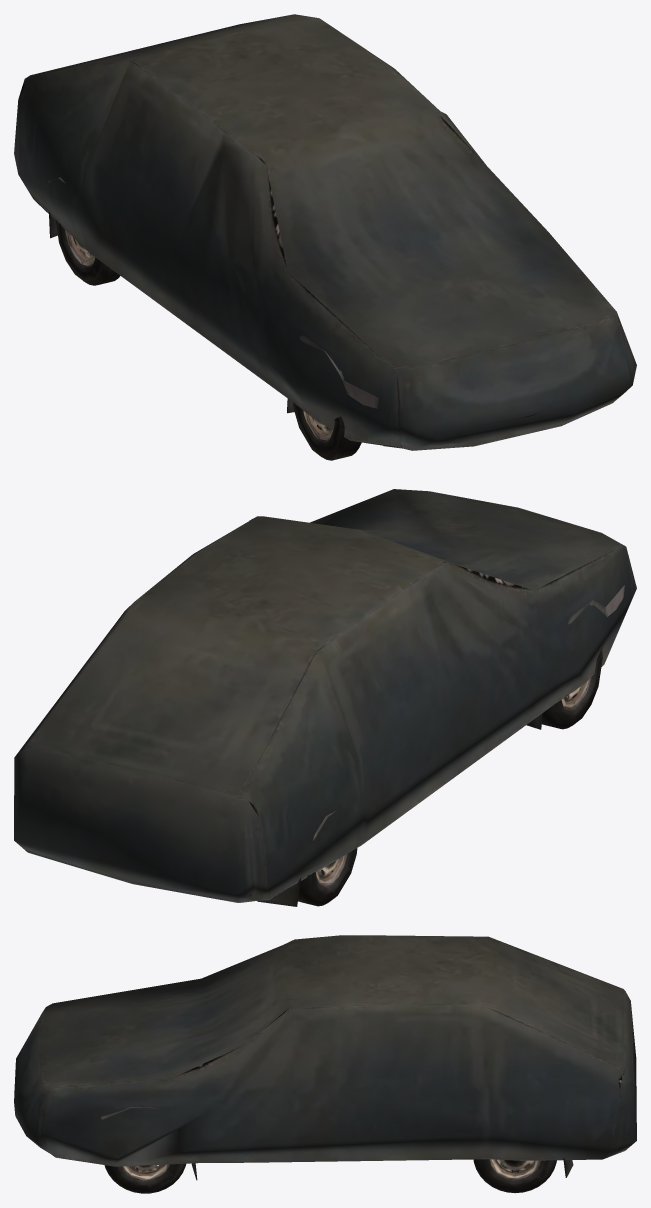
The model's file is wreck_car.glb.
3 renders of one model, top to bottom at view 1: azimuth 30°, elevation 25°; view 2: azimuth 150°, elevation 25°; view 3: azimuth 270°, elevation 25°, orthographic. The views are drawn at different scales.
Parts seen in each view (by area): view 1: covered_car_wheel_01; view 2: covered_car_wheel_01; view 3: covered_car_wheel_01.
Part boxes in pixels (x1,y1,x2,y2): covered_car_wheel_01: (14,14,636,460); covered_car_wheel_01: (14,489,636,906); covered_car_wheel_01: (14,935,636,1193).
Bounding box in the file's own units: 1.79 × 1.41 × 4.34.
1 material, 1 textured.
